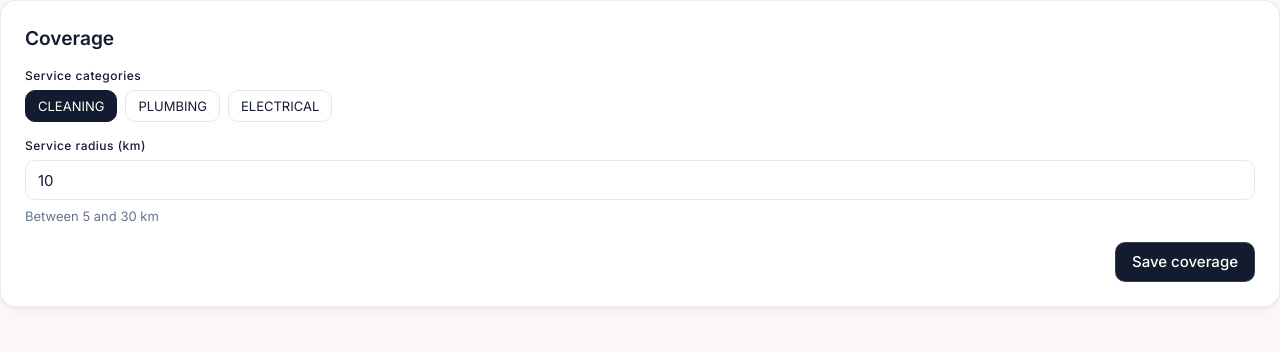
Scenario: CoverageForm › disables Save when no categories selected
The image size is (1280, 352).
Click the button "CLEANING": (71, 106) [25,90,117,122]
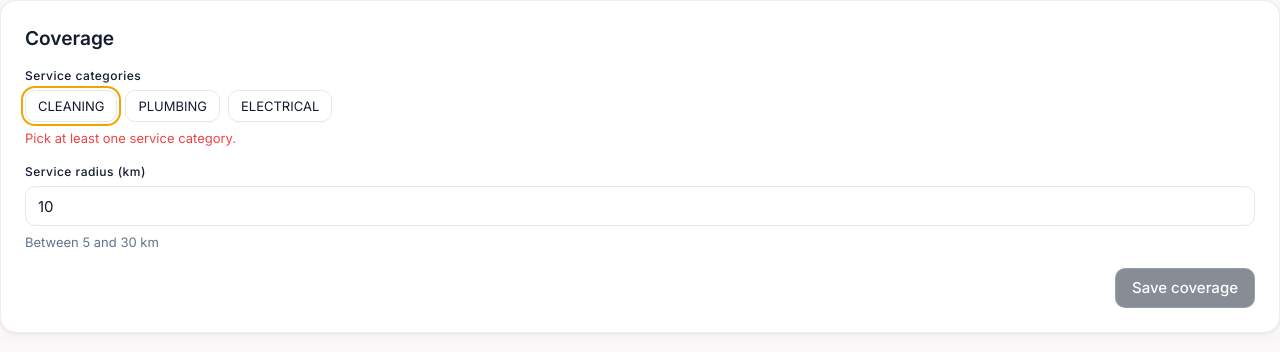
Expected: the button "Save coverage" is disabled, [1115,268,1255,308]
Expected: the text "Pick at least one service category." is shown, [25,130,236,146]
